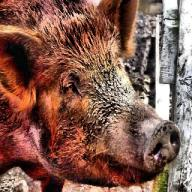boar: (0, 0, 181, 191)
